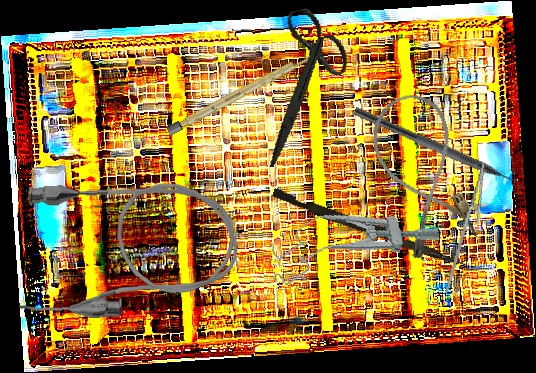Cannula: (12, 176, 242, 322), (362, 86, 482, 262)
Chopper: (348, 106, 529, 200)
Iris Scissors: (233, 1, 369, 168)
Needle Holder: (444, 159, 496, 297)
Pusher: (270, 188, 468, 268)
Scalpel Handle: (166, 52, 312, 136)
Speculum: (263, 192, 443, 288)
